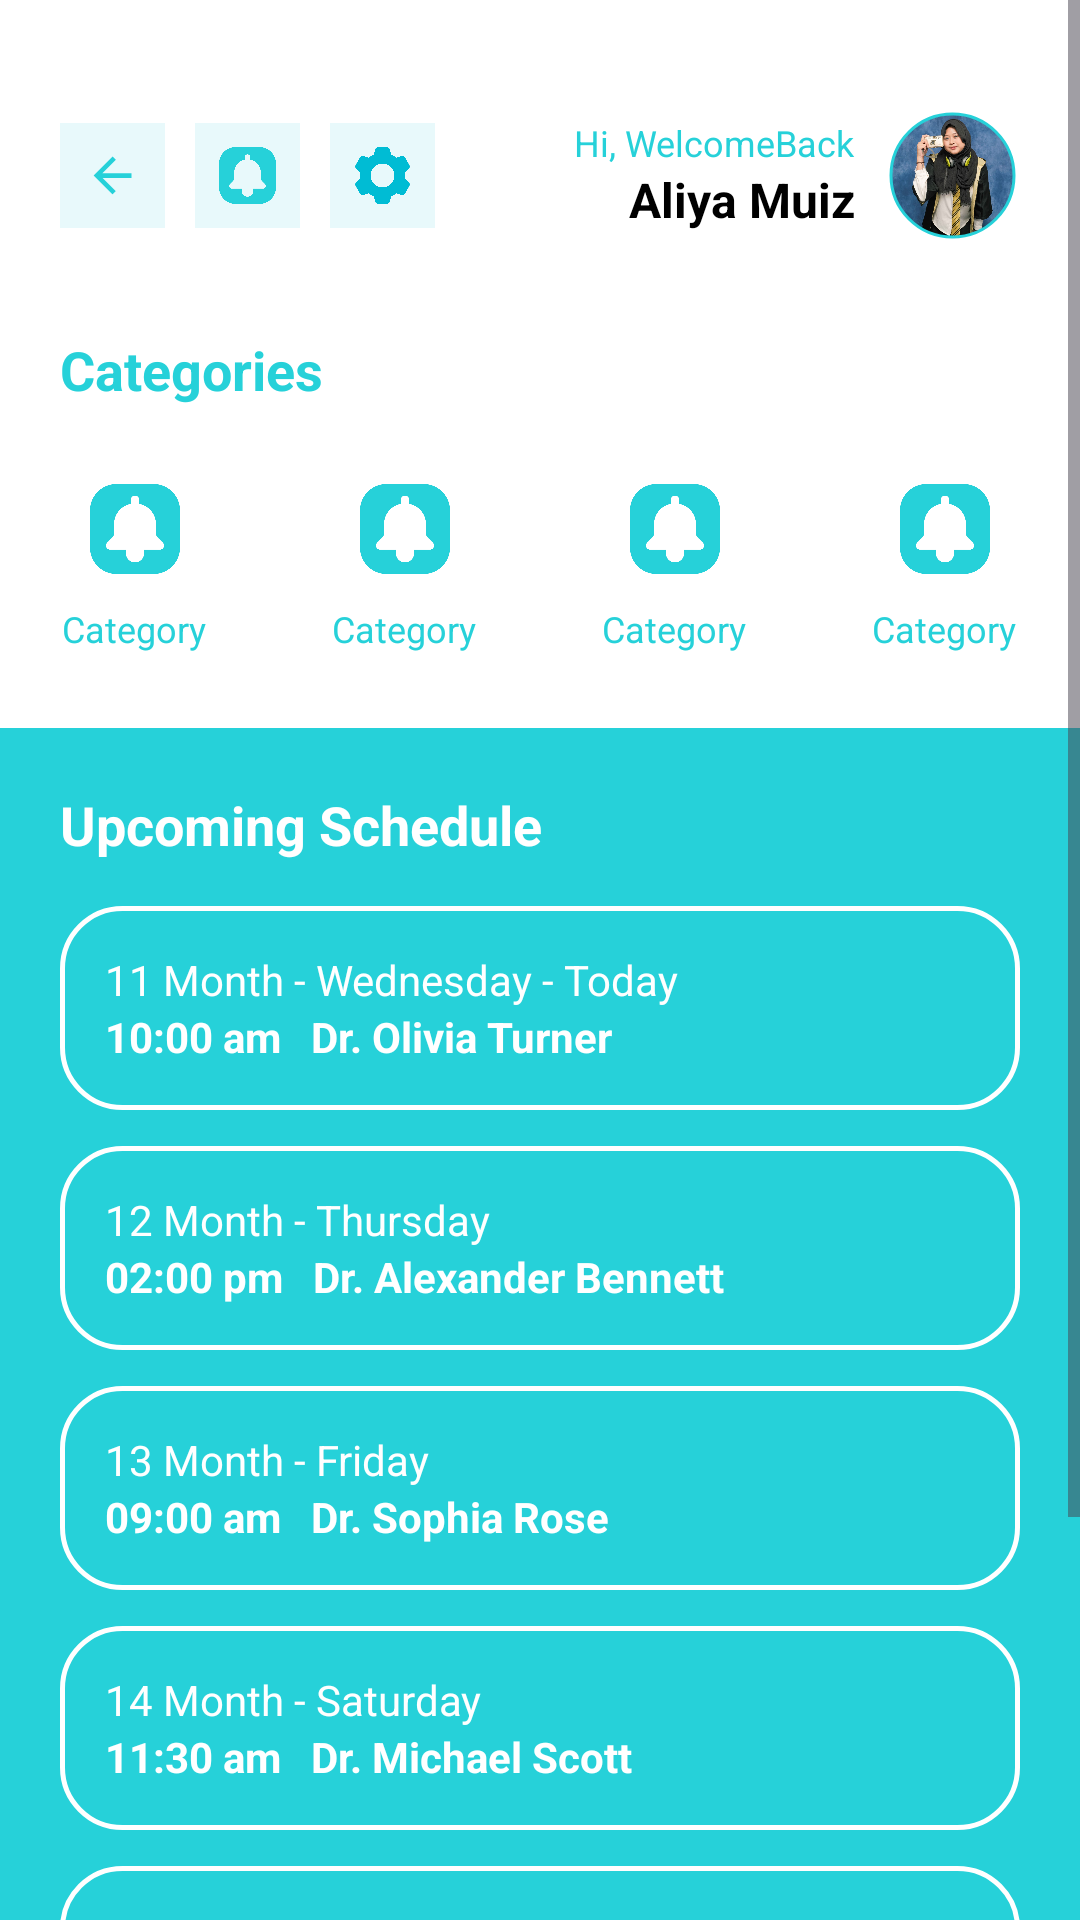

Icons on this 1080 × 1920 Android screen, each with its box as (x1, y1, x2, y2):
notif: (219, 147, 276, 204), (90, 484, 180, 574), (360, 484, 450, 574), (630, 484, 720, 574), (900, 484, 990, 574)
profile: (889, 112, 1016, 239)
setig: (355, 147, 410, 204)
